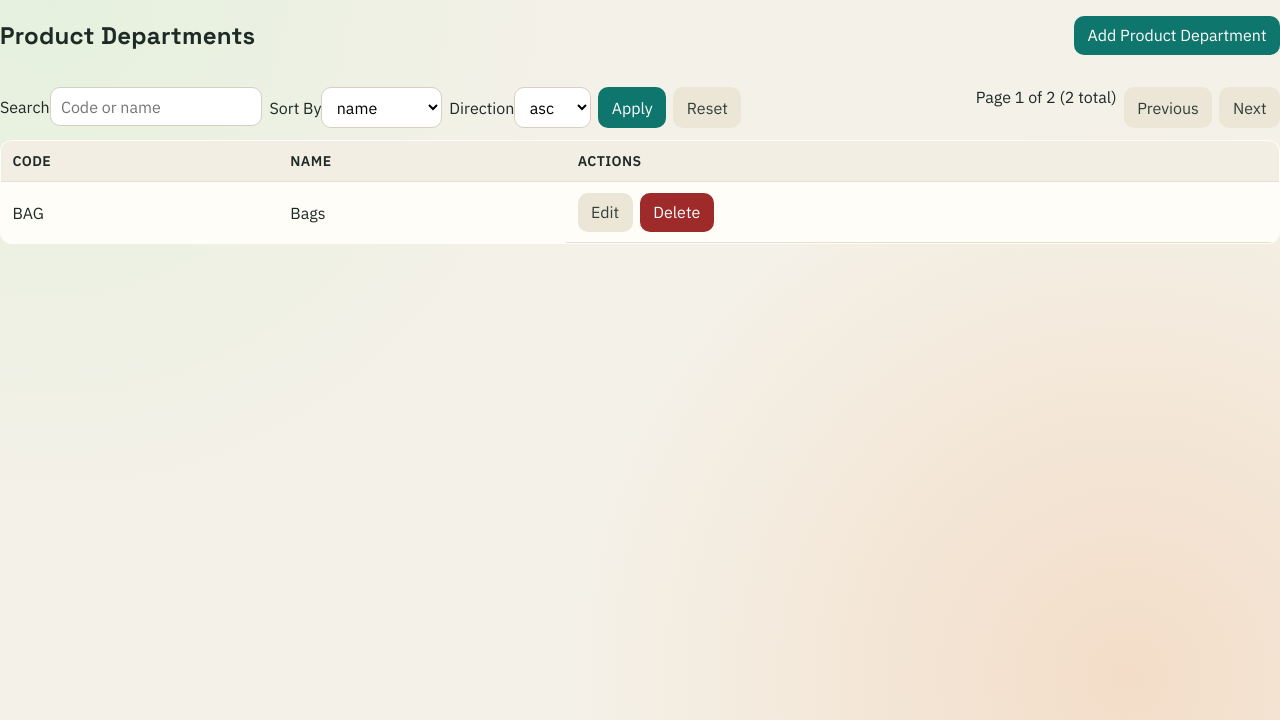
ProductDepartmentsPage › creates a product department from modal and refreshes list
Expected: the heading "Product Departments" is shown, [0,20,255,51]
Click the button "Add Product Department".
click(1177, 35)  # box [1074,16,1279,55]
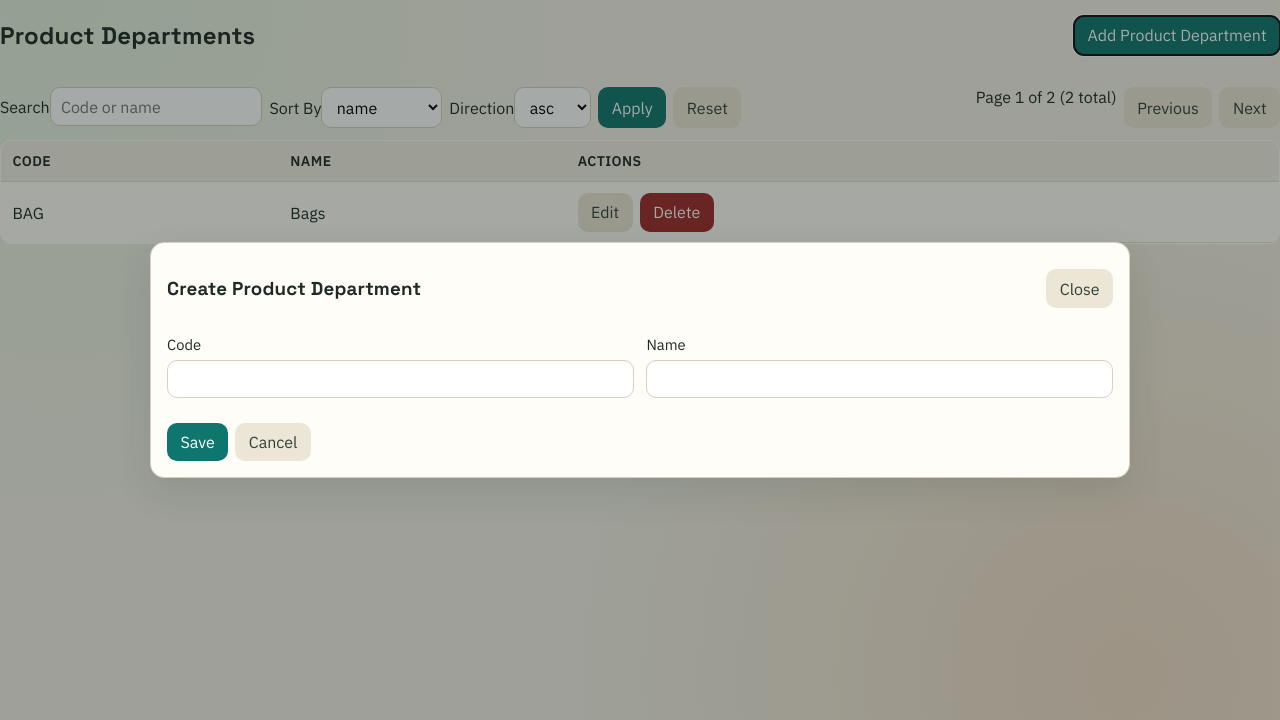
Now the heading "Create Product Department" is shown, box [167,277,421,300]
Type "ACC" into the field labelled "Code".
click(400, 379); type("ACC")  # box [167,360,634,398]
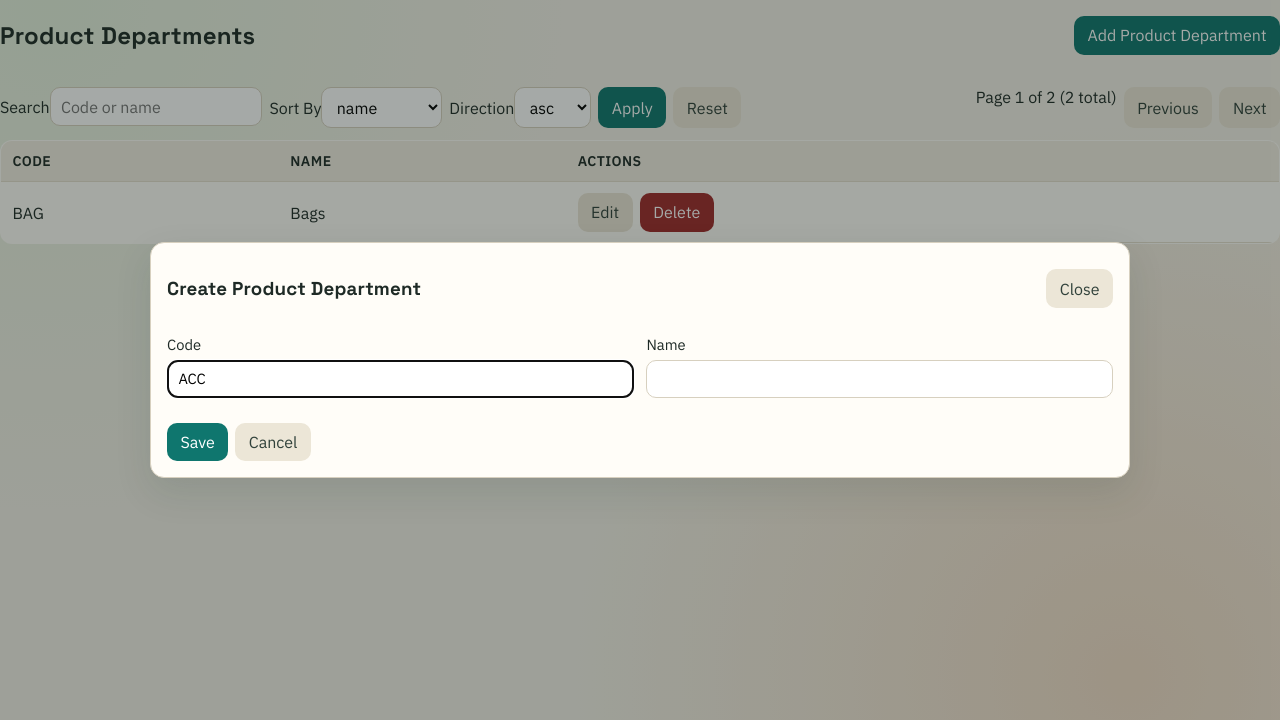
Type "Accessories" into the field labelled "Name".
click(880, 379); type("Accessories")  # box [646,360,1113,398]
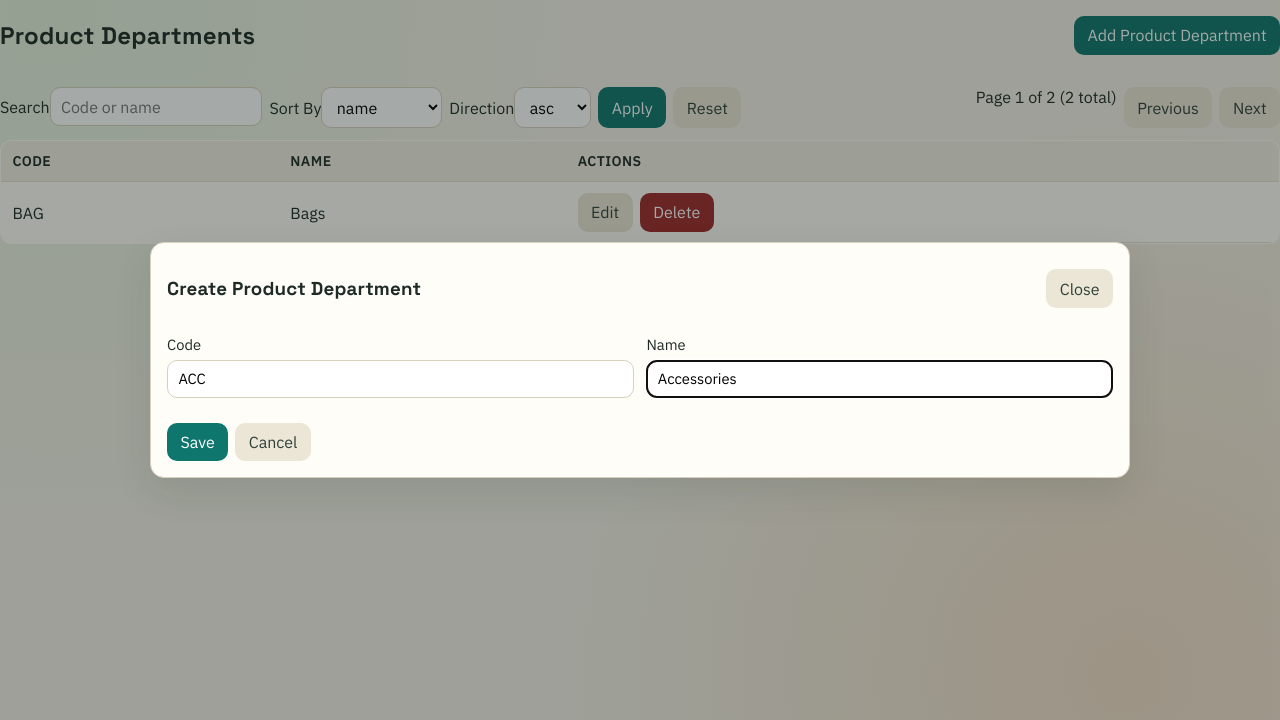
Click the button "Save".
click(198, 442)  # box [167,423,228,461]
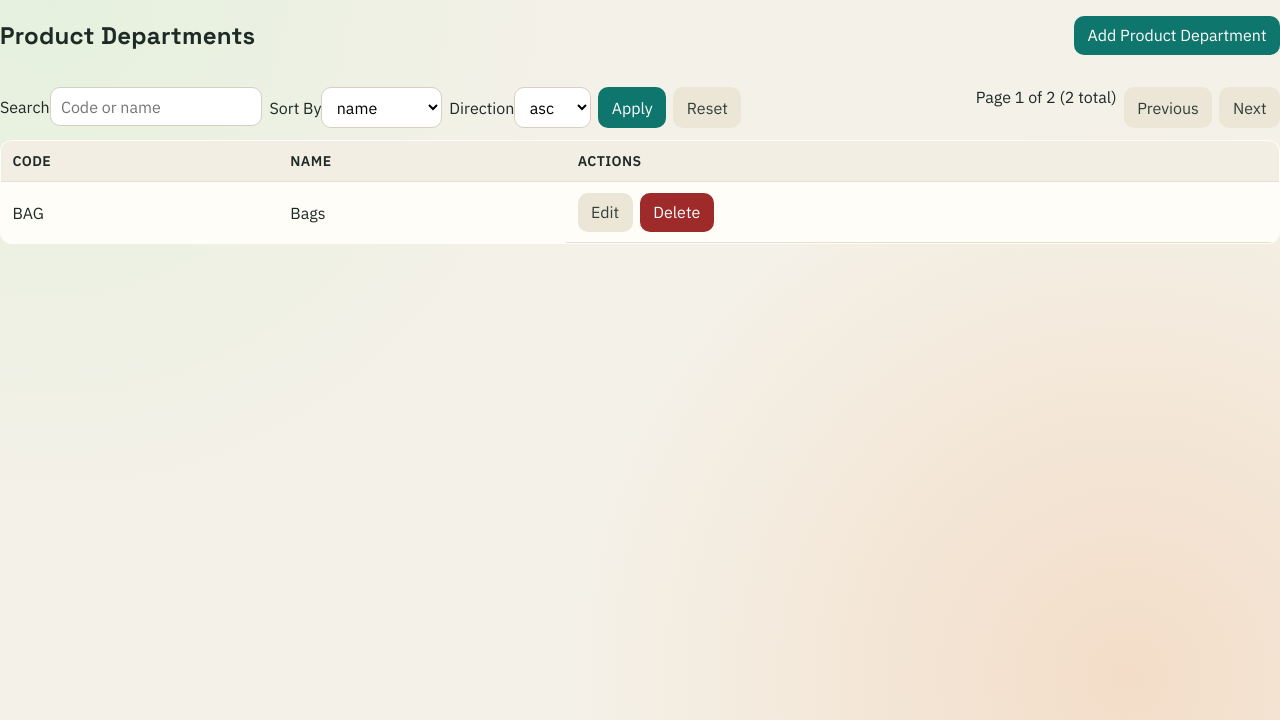
Now the heading "Create Product Department" is gone
